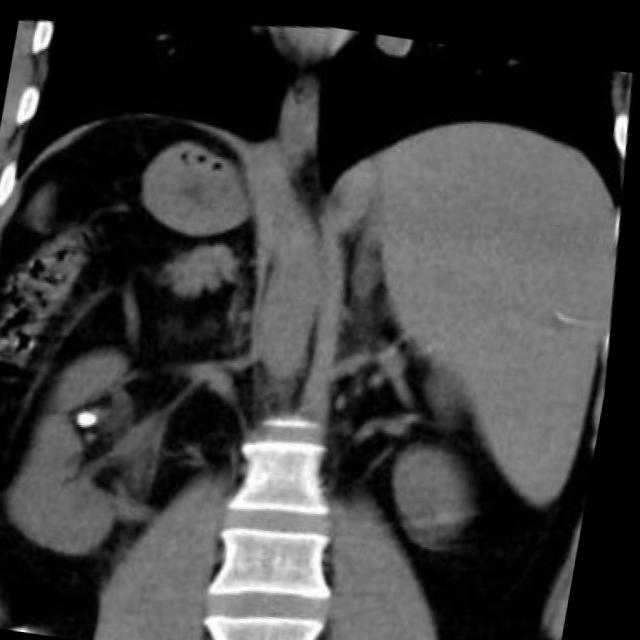Tas_Var: (84, 403, 109, 430)
